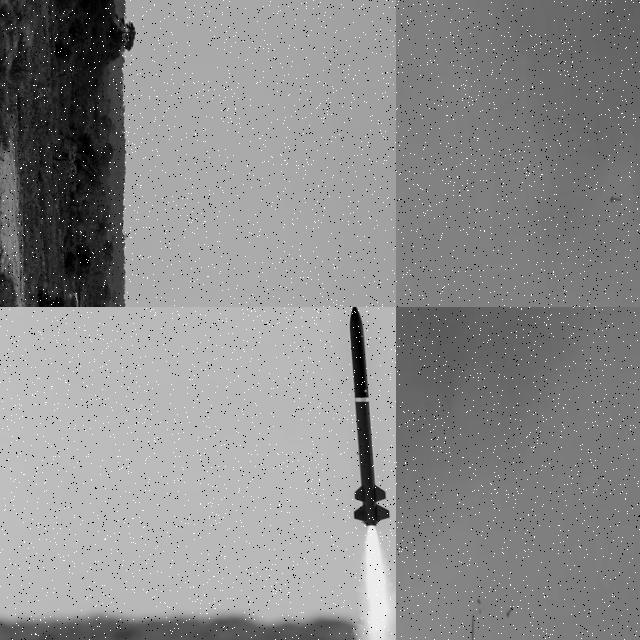Rocket: (346, 307, 393, 528), (610, 195, 622, 204), (506, 604, 514, 617)
